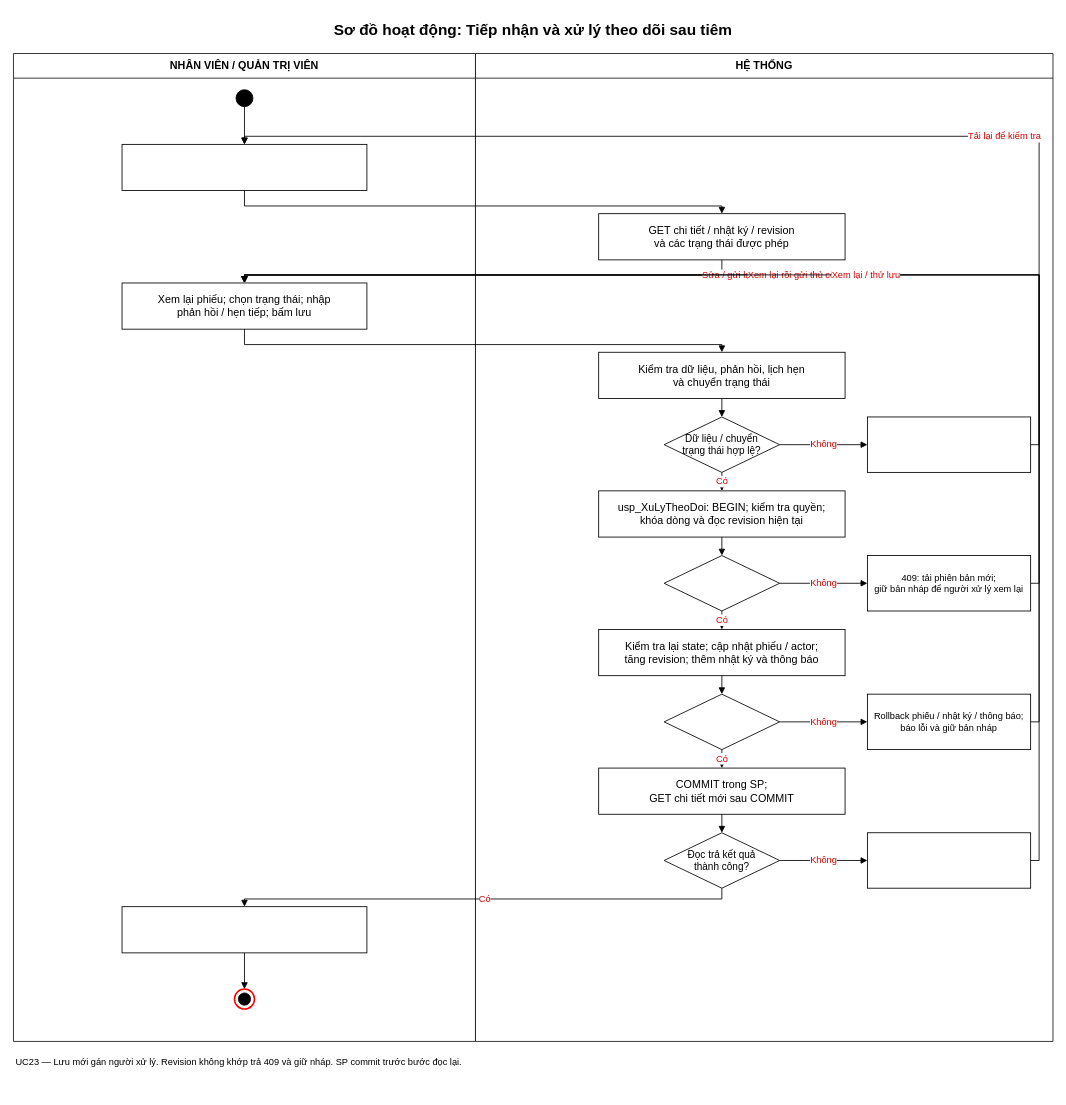
The diagram is 1066 pixels wide and 1105 high, and some of its shapes have lost their labels. Each missing label, with the centre of its shape:
400 / 409: báo lỗi; giữ nội dung đang sửa: the point at 949,444
expectedRevision còn khớp?: the point at 721,583
Ghi thành công?: the point at 721,721
Mở phiếu cần xử lý: the point at 244,167
Xem trạng thái, phản hồi, người xử lý và nhật ký mới: the point at 244,929
Xử lý đã lưu; lỗi tải chi tiết; giữ nháp, tải lại phiếu để kiểm tra: the point at 949,860
